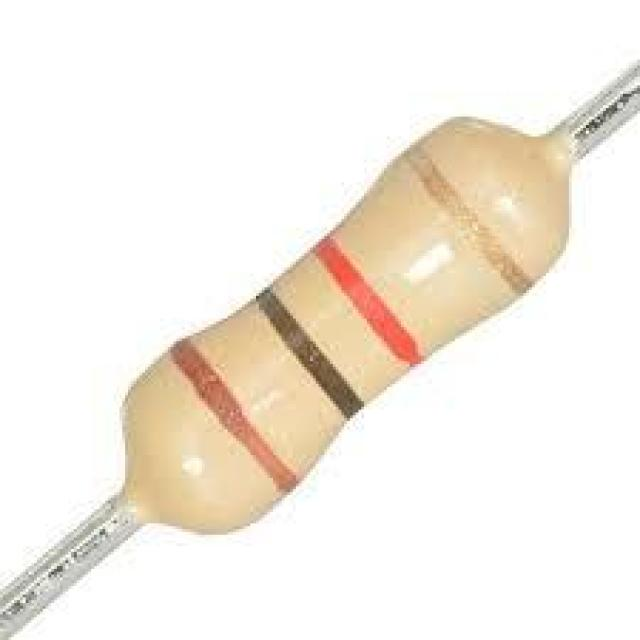Resistor: (0, 63, 640, 637)
